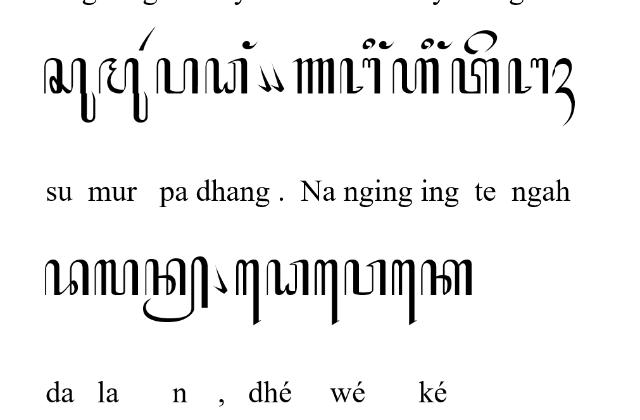-n: (143, 256, 209, 324)
N: (292, 57, 334, 94)
_h1: (552, 57, 574, 127)
_r1: (138, 26, 156, 50)
d: (44, 258, 90, 296)
dh: (204, 57, 248, 94), (265, 260, 309, 296)
e: (464, 30, 498, 55)
e1: (314, 260, 340, 326), (236, 260, 260, 326), (392, 260, 416, 326)
h: (392, 57, 438, 95)
i: (361, 38, 375, 50), (420, 38, 434, 50)
k: (421, 260, 474, 296)
kom: (212, 266, 228, 294), (258, 64, 272, 94), (270, 64, 284, 92)
l: (93, 260, 139, 296)
mu: (98, 57, 148, 123)
ng: (242, 40, 258, 50), (379, 40, 395, 50), (437, 40, 453, 50)
nga: (339, 57, 381, 95), (508, 57, 548, 94)
p: (156, 57, 198, 94)
su: (44, 57, 96, 123)
t: (450, 57, 500, 94)
w: (344, 260, 386, 296)
